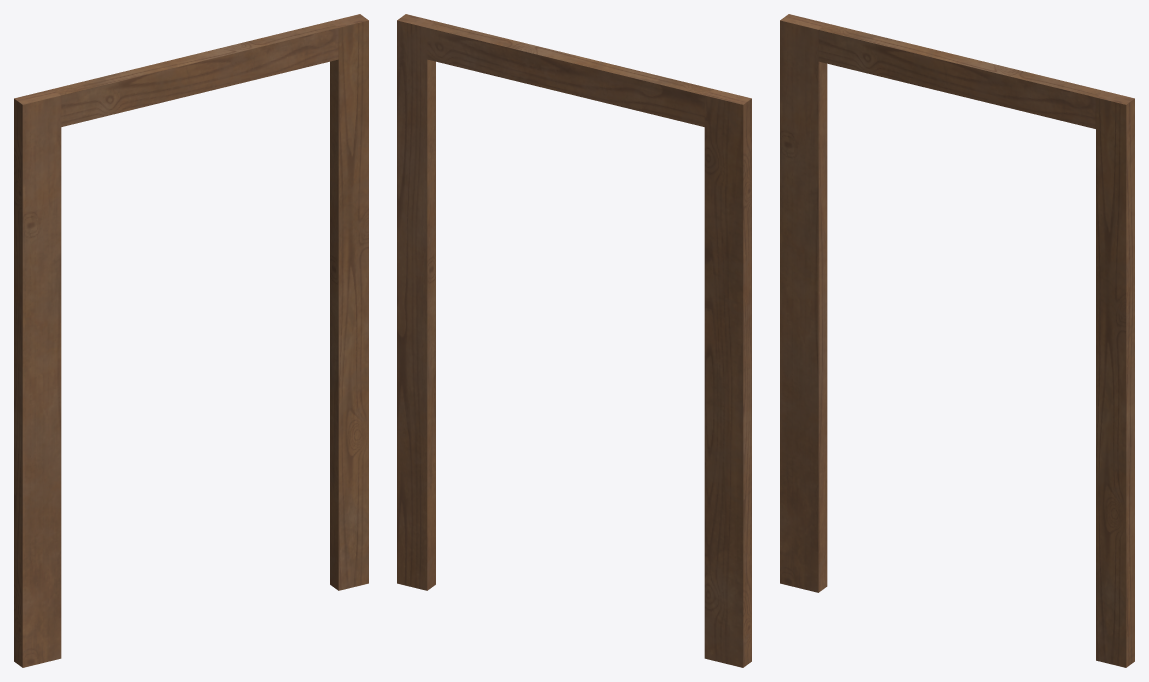
File: contour_porte_001.fbx
3 renders of one model, left to right at view 1: azimuth 30°, elevation 25°; view 2: azimuth 150°, elevation 25°; view 3: azimuth 330°, elevation 25°, orthographic.
Parts seen in each view (by area): view 1: contour porte.001; view 2: contour porte.001; view 3: contour porte.001.
Part boxes in pixels (x1,y1,x2,y2): contour porte.001: [14, 14, 368, 667]; contour porte.001: [397, 14, 751, 667]; contour porte.001: [780, 14, 1134, 667].
Size of the model in its own units: 135 by 210 by 5.95.
